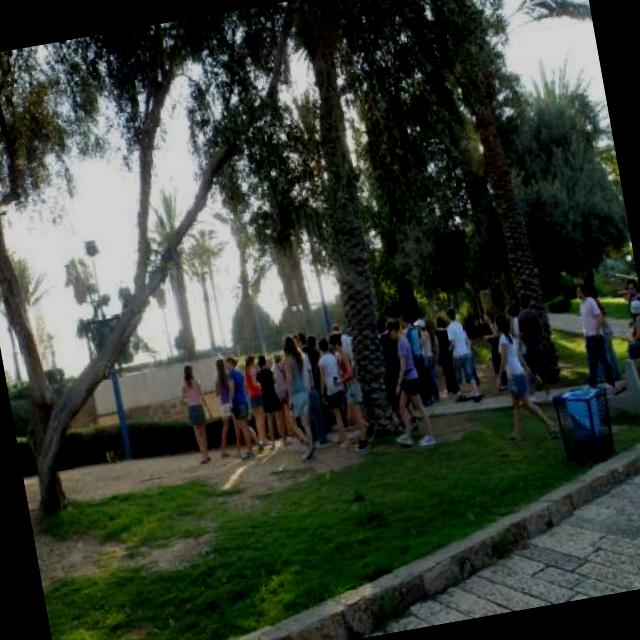Person: (170, 304, 450, 491), (483, 306, 557, 444), (384, 300, 444, 452), (568, 282, 619, 394), (580, 276, 626, 381), (514, 290, 554, 400), (438, 306, 480, 402), (480, 298, 512, 393), (430, 310, 462, 396), (505, 302, 533, 378), (460, 314, 483, 396), (618, 283, 640, 337), (622, 294, 640, 342), (628, 274, 640, 316)
